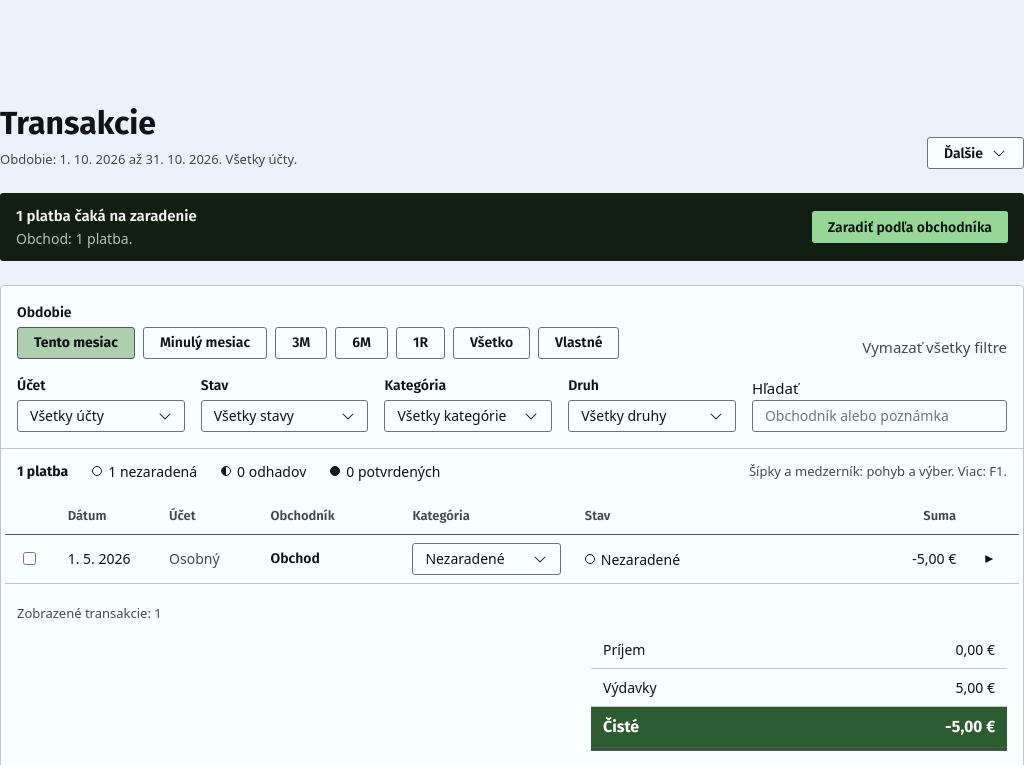
Test: Transactions bulk confirm › confirms the whole selection in one click and reports how many were confirmed
The image size is (1024, 765).
(page scrolled)
expect the text "Obchod" is shown: met, box [270,550,320,567]
Click the checkbox: click(29, 559) [22,552,36,565]
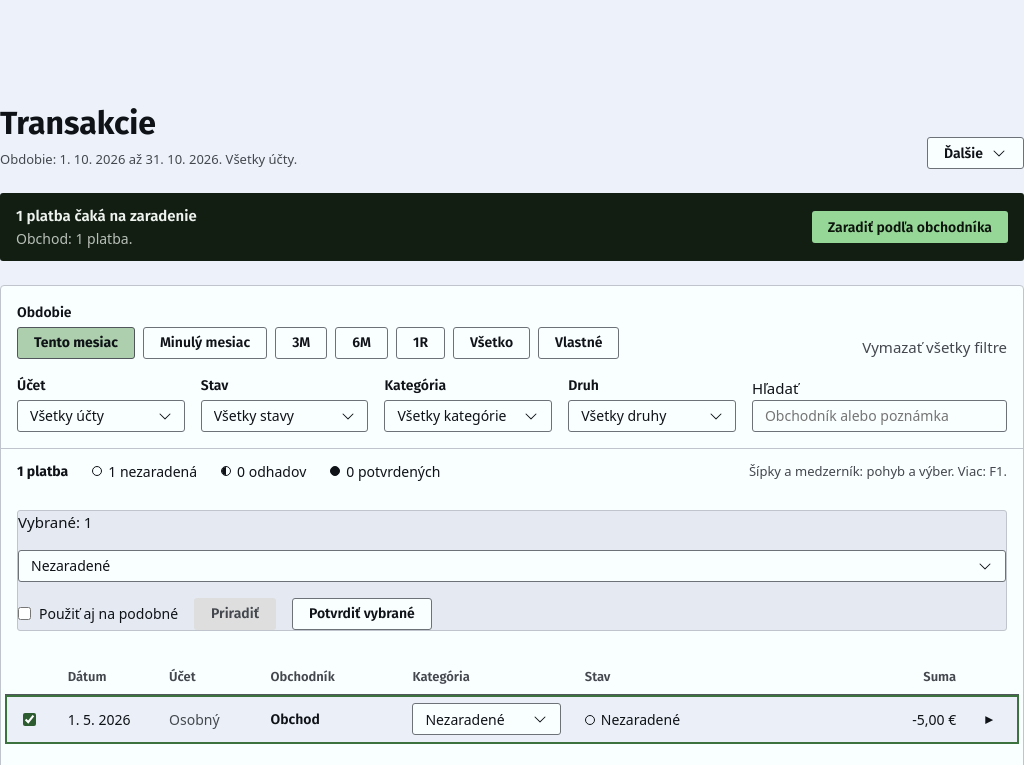
Click the button "Potvrdiť vybrané": click(362, 614) [292,598,432,630]
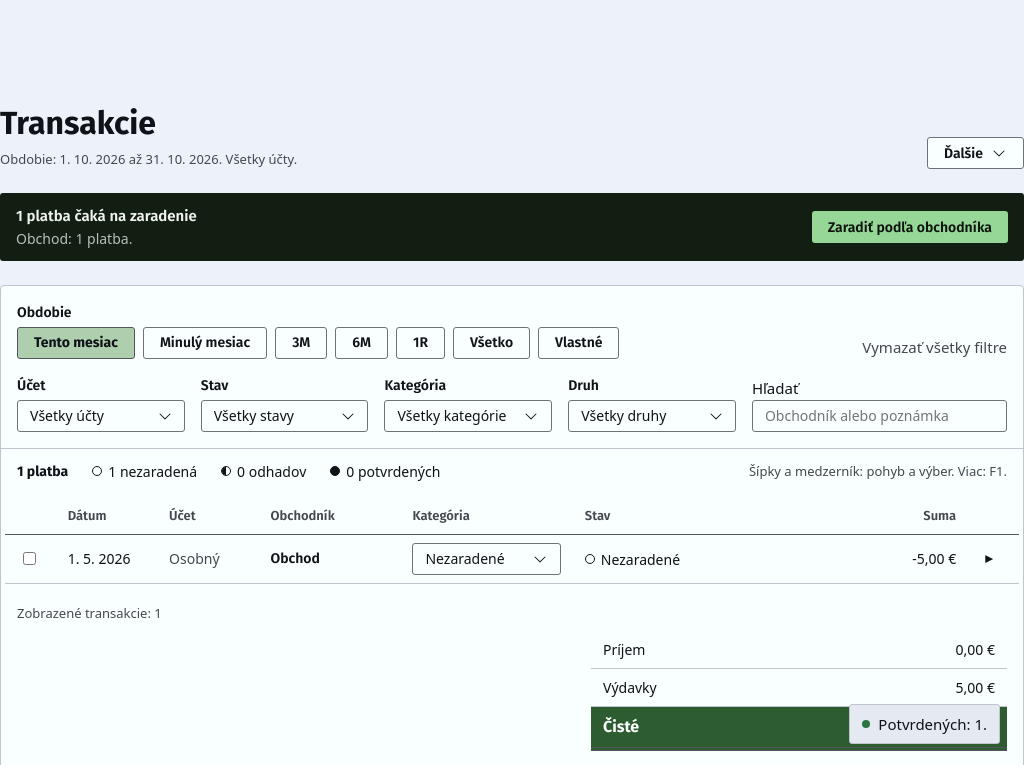
expect the text "Potvrdených: 1." is shown: met, box [878,712,987,735]
